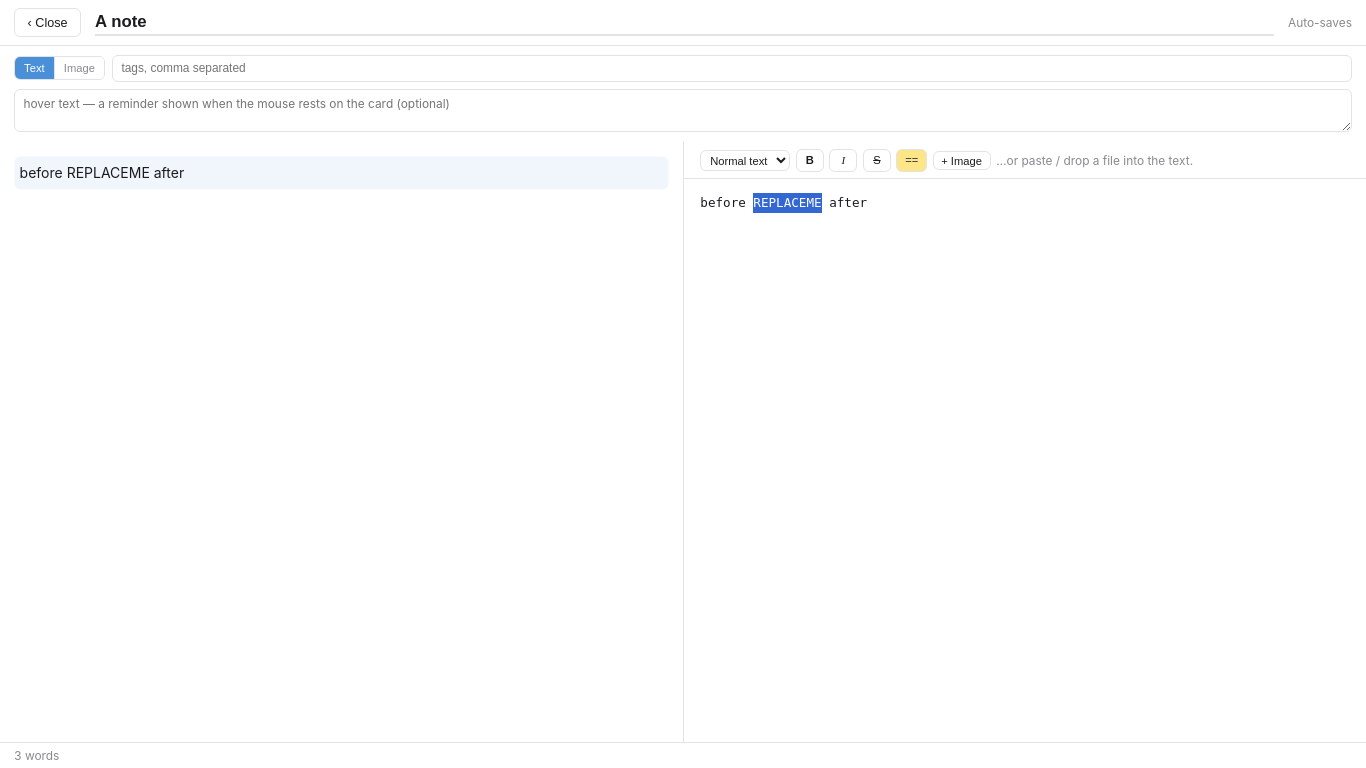
inserting an asset › replaces the selection when there is one
expect the text box with placeholder "Write in Markdown…" holds "before REPLACEME after": met, box [684, 179, 1365, 742]
Click the button "+ Image".
click(962, 161)  # box [932, 151, 991, 170]
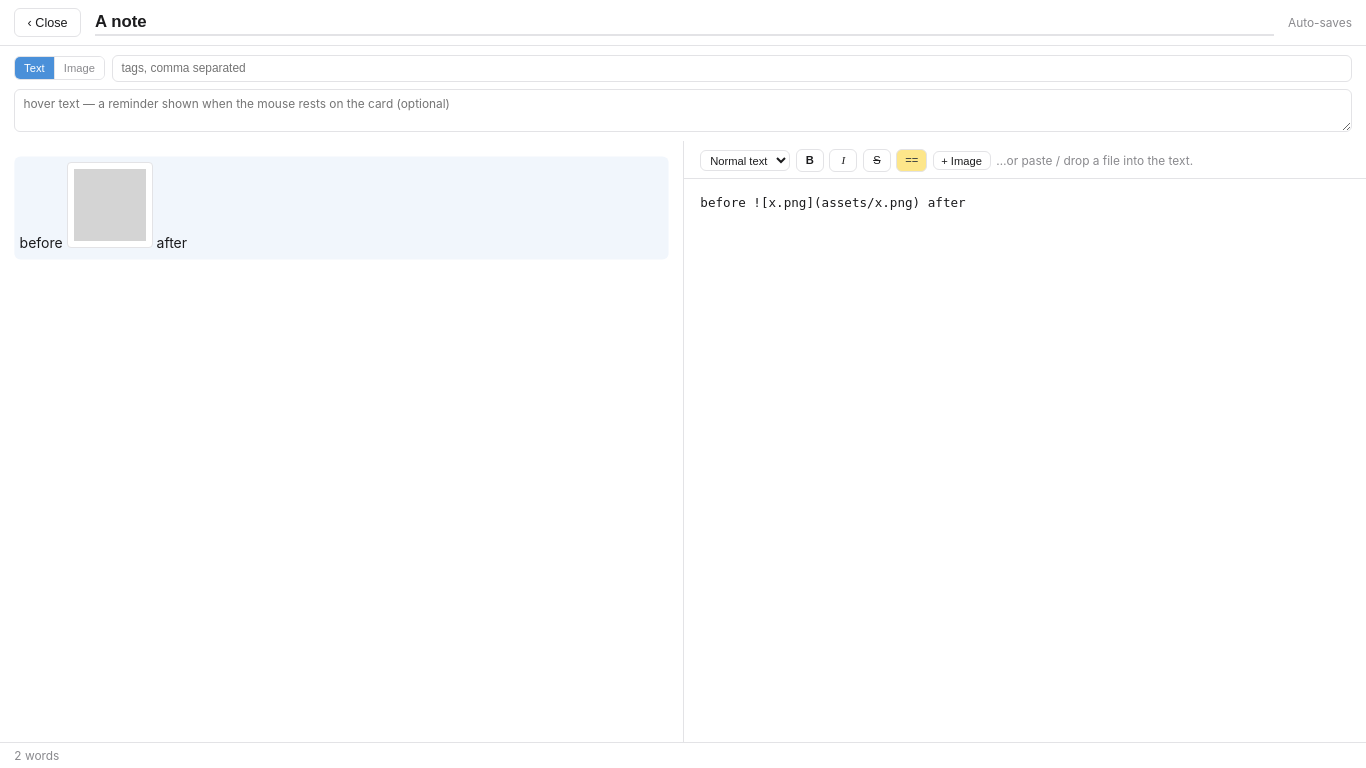
expect the text box with placeholder "Write in Markdown…" holds "before ![x.png](assets/x.png) after": met, box [684, 179, 1365, 742]
